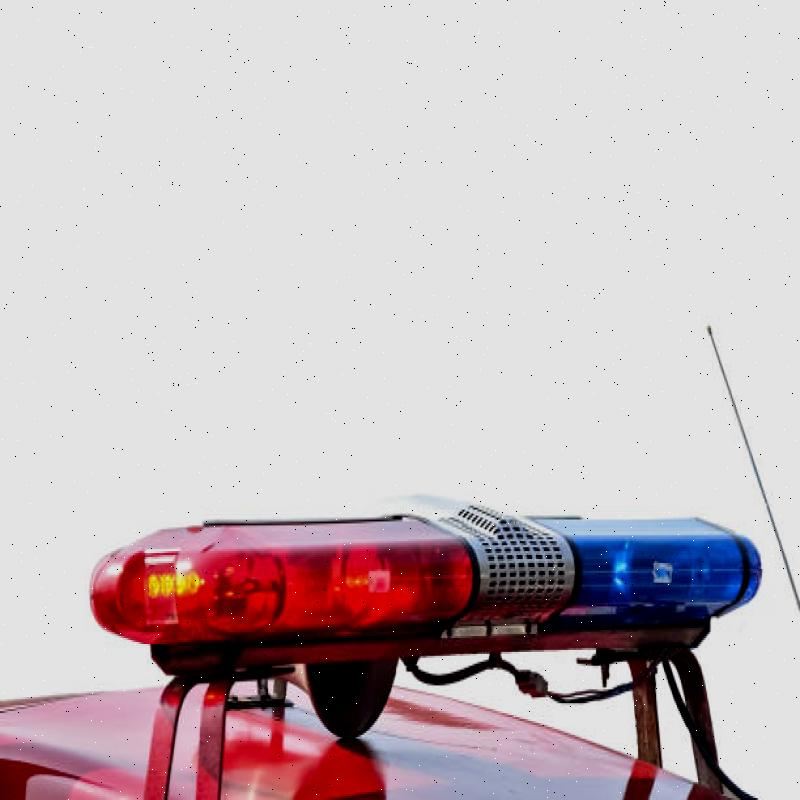AmbulanceSiren: (81, 487, 784, 724)
